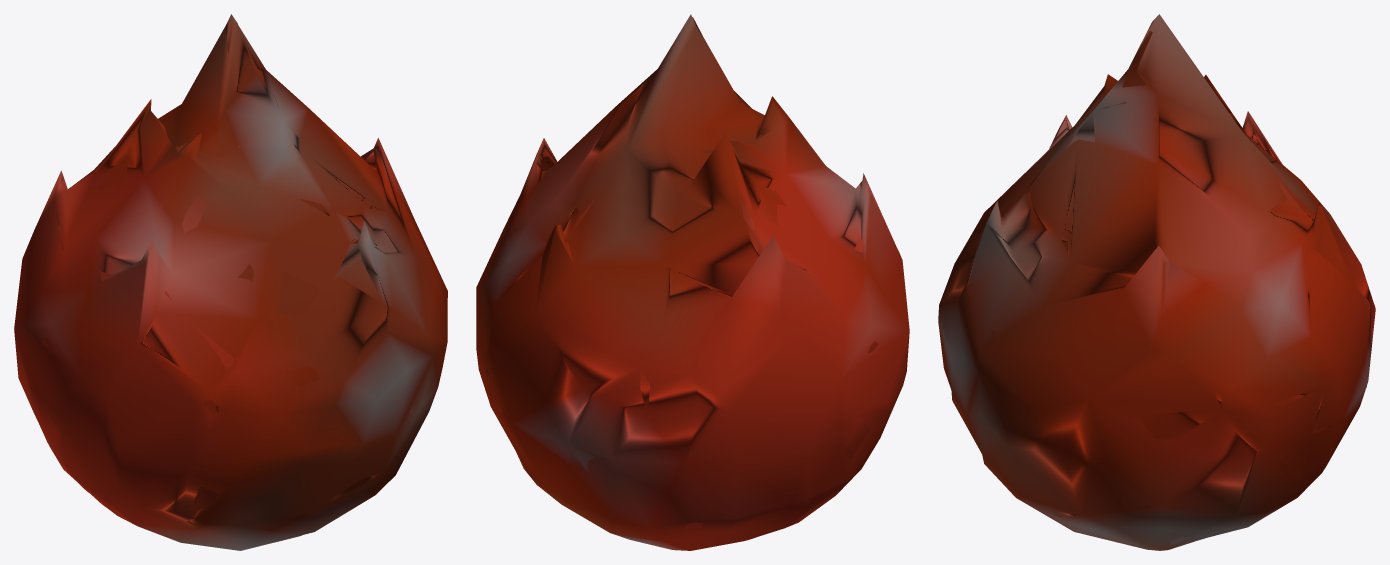
Rendered from gen3d-fireball-lod1.glb.
The picture shows the model from 3 angles, left to right: view 1: azimuth 30°, elevation 25°; view 2: azimuth 150°, elevation 25°; view 3: azimuth 270°, elevation 25°; orthographic projection.
Visible parts, largest first — view 1: part_0; view 2: part_0; view 3: part_0.
Boxes of the visible parts, left/top/right/bottom form: part_0: left=14, top=14, right=447, bottom=550; part_0: left=476, top=14, right=909, bottom=550; part_0: left=938, top=14, right=1375, bottom=550.
Size of the model in its own units: 0.7391 by 0.9991 by 0.7657.
